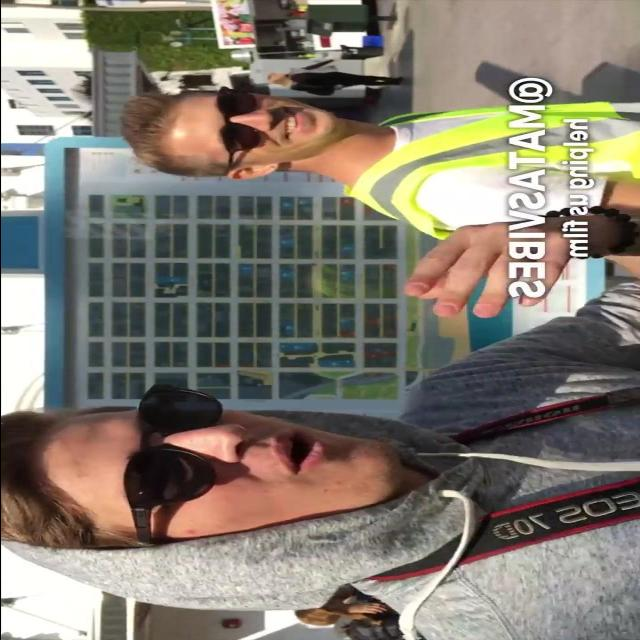jacket: (348, 88, 640, 254)
